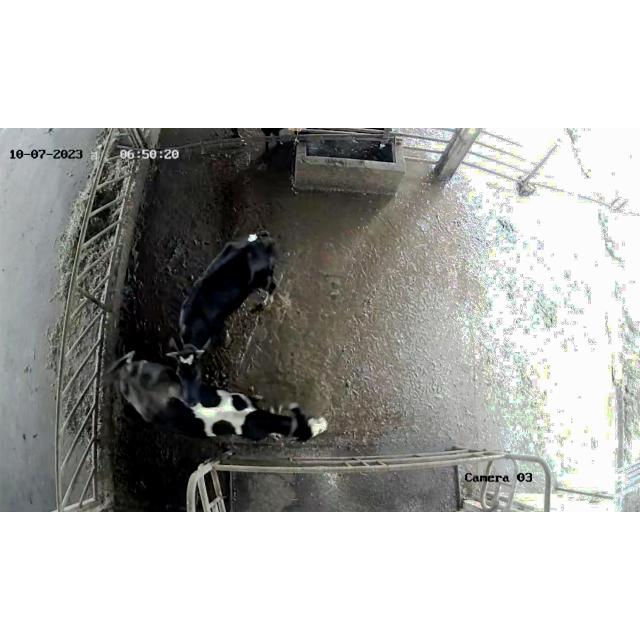propping: (159, 324, 221, 426)
